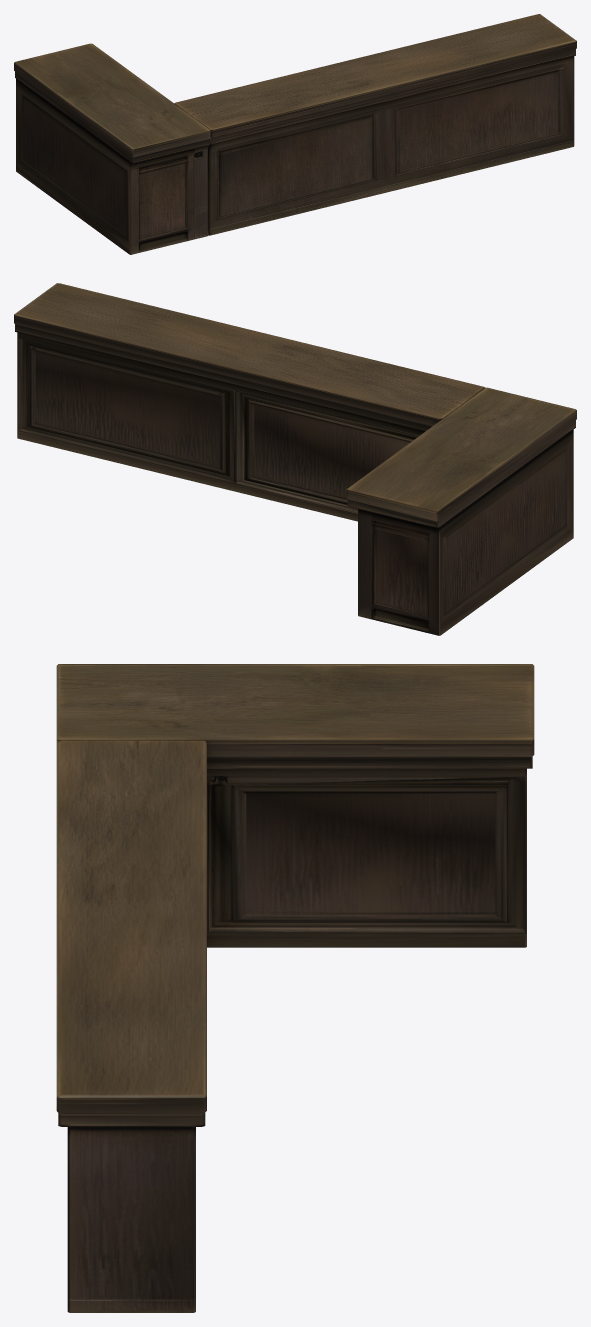
Rendered from P_Front_Desk_LOD0.fbx.
3 renders of one model, top to bottom at view 1: azimuth 30°, elevation 25°; view 2: azimuth 150°, elevation 25°; view 3: azimuth 270°, elevation 25°, orthographic. The views are drawn at different scales.
Visible parts, largest first — view 1: P_Front_Desk_LOD0; view 2: P_Front_Desk_LOD0; view 3: P_Front_Desk_LOD0.
Boxes of the visible parts, left/top/right/bottom form: P_Front_Desk_LOD0: left=14, top=14, right=576, bottom=254; P_Front_Desk_LOD0: left=14, top=283, right=576, bottom=635; P_Front_Desk_LOD0: left=56, top=664, right=534, bottom=1312.
Size of what is drawn, in the model's own units: 497 by 116 by 232.
1 material, 1 textured.
